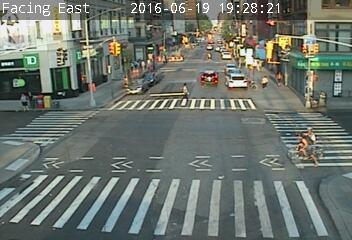neg: (264, 26, 283, 51), (310, 43, 326, 65), (292, 37, 307, 58), (325, 63, 340, 83)
pos: (176, 79, 195, 104), (15, 90, 32, 112), (273, 66, 289, 88), (259, 74, 270, 89)
